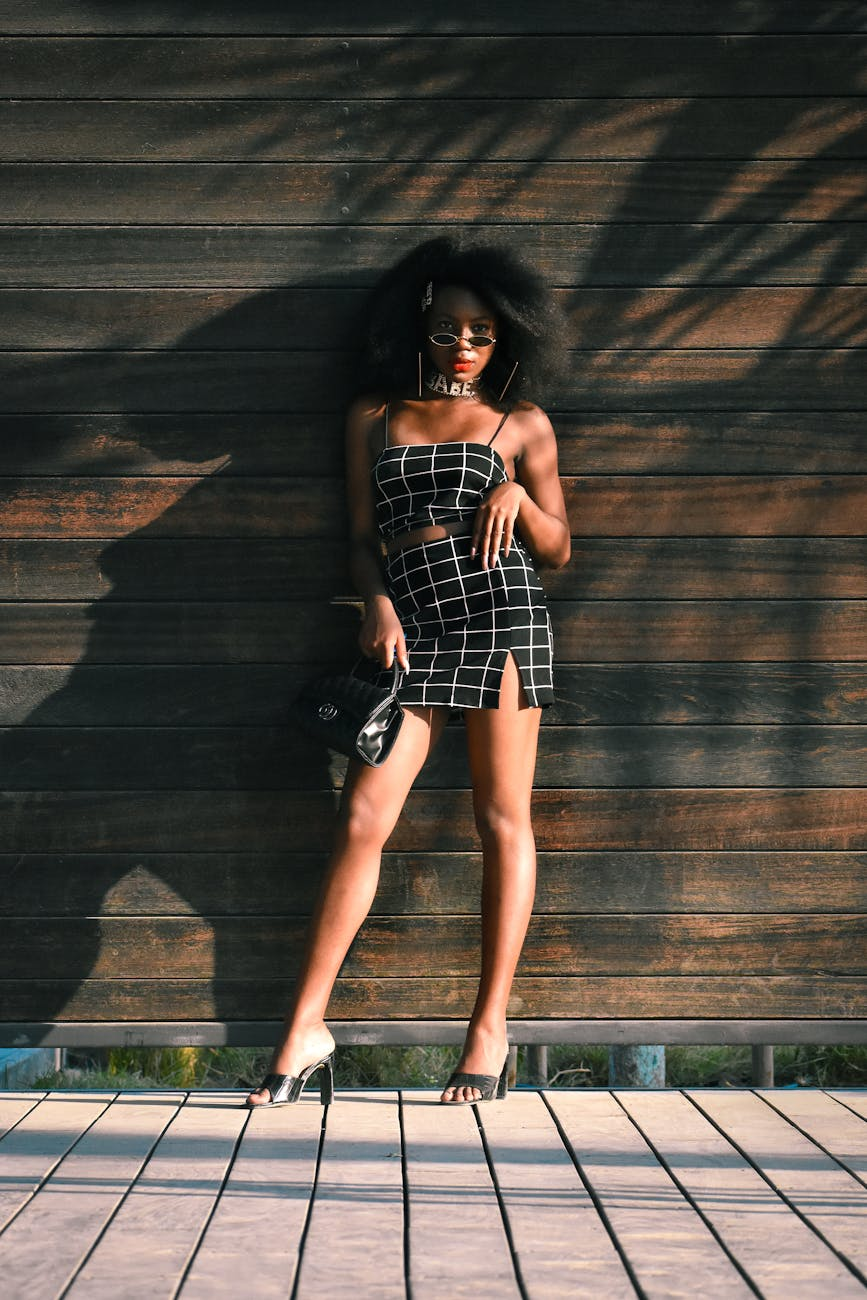crop_top: (359, 390, 526, 559)
opened_foot: (425, 1021, 528, 1117), (254, 1022, 341, 1107)
short_medium_skirt: (353, 534, 570, 725)
